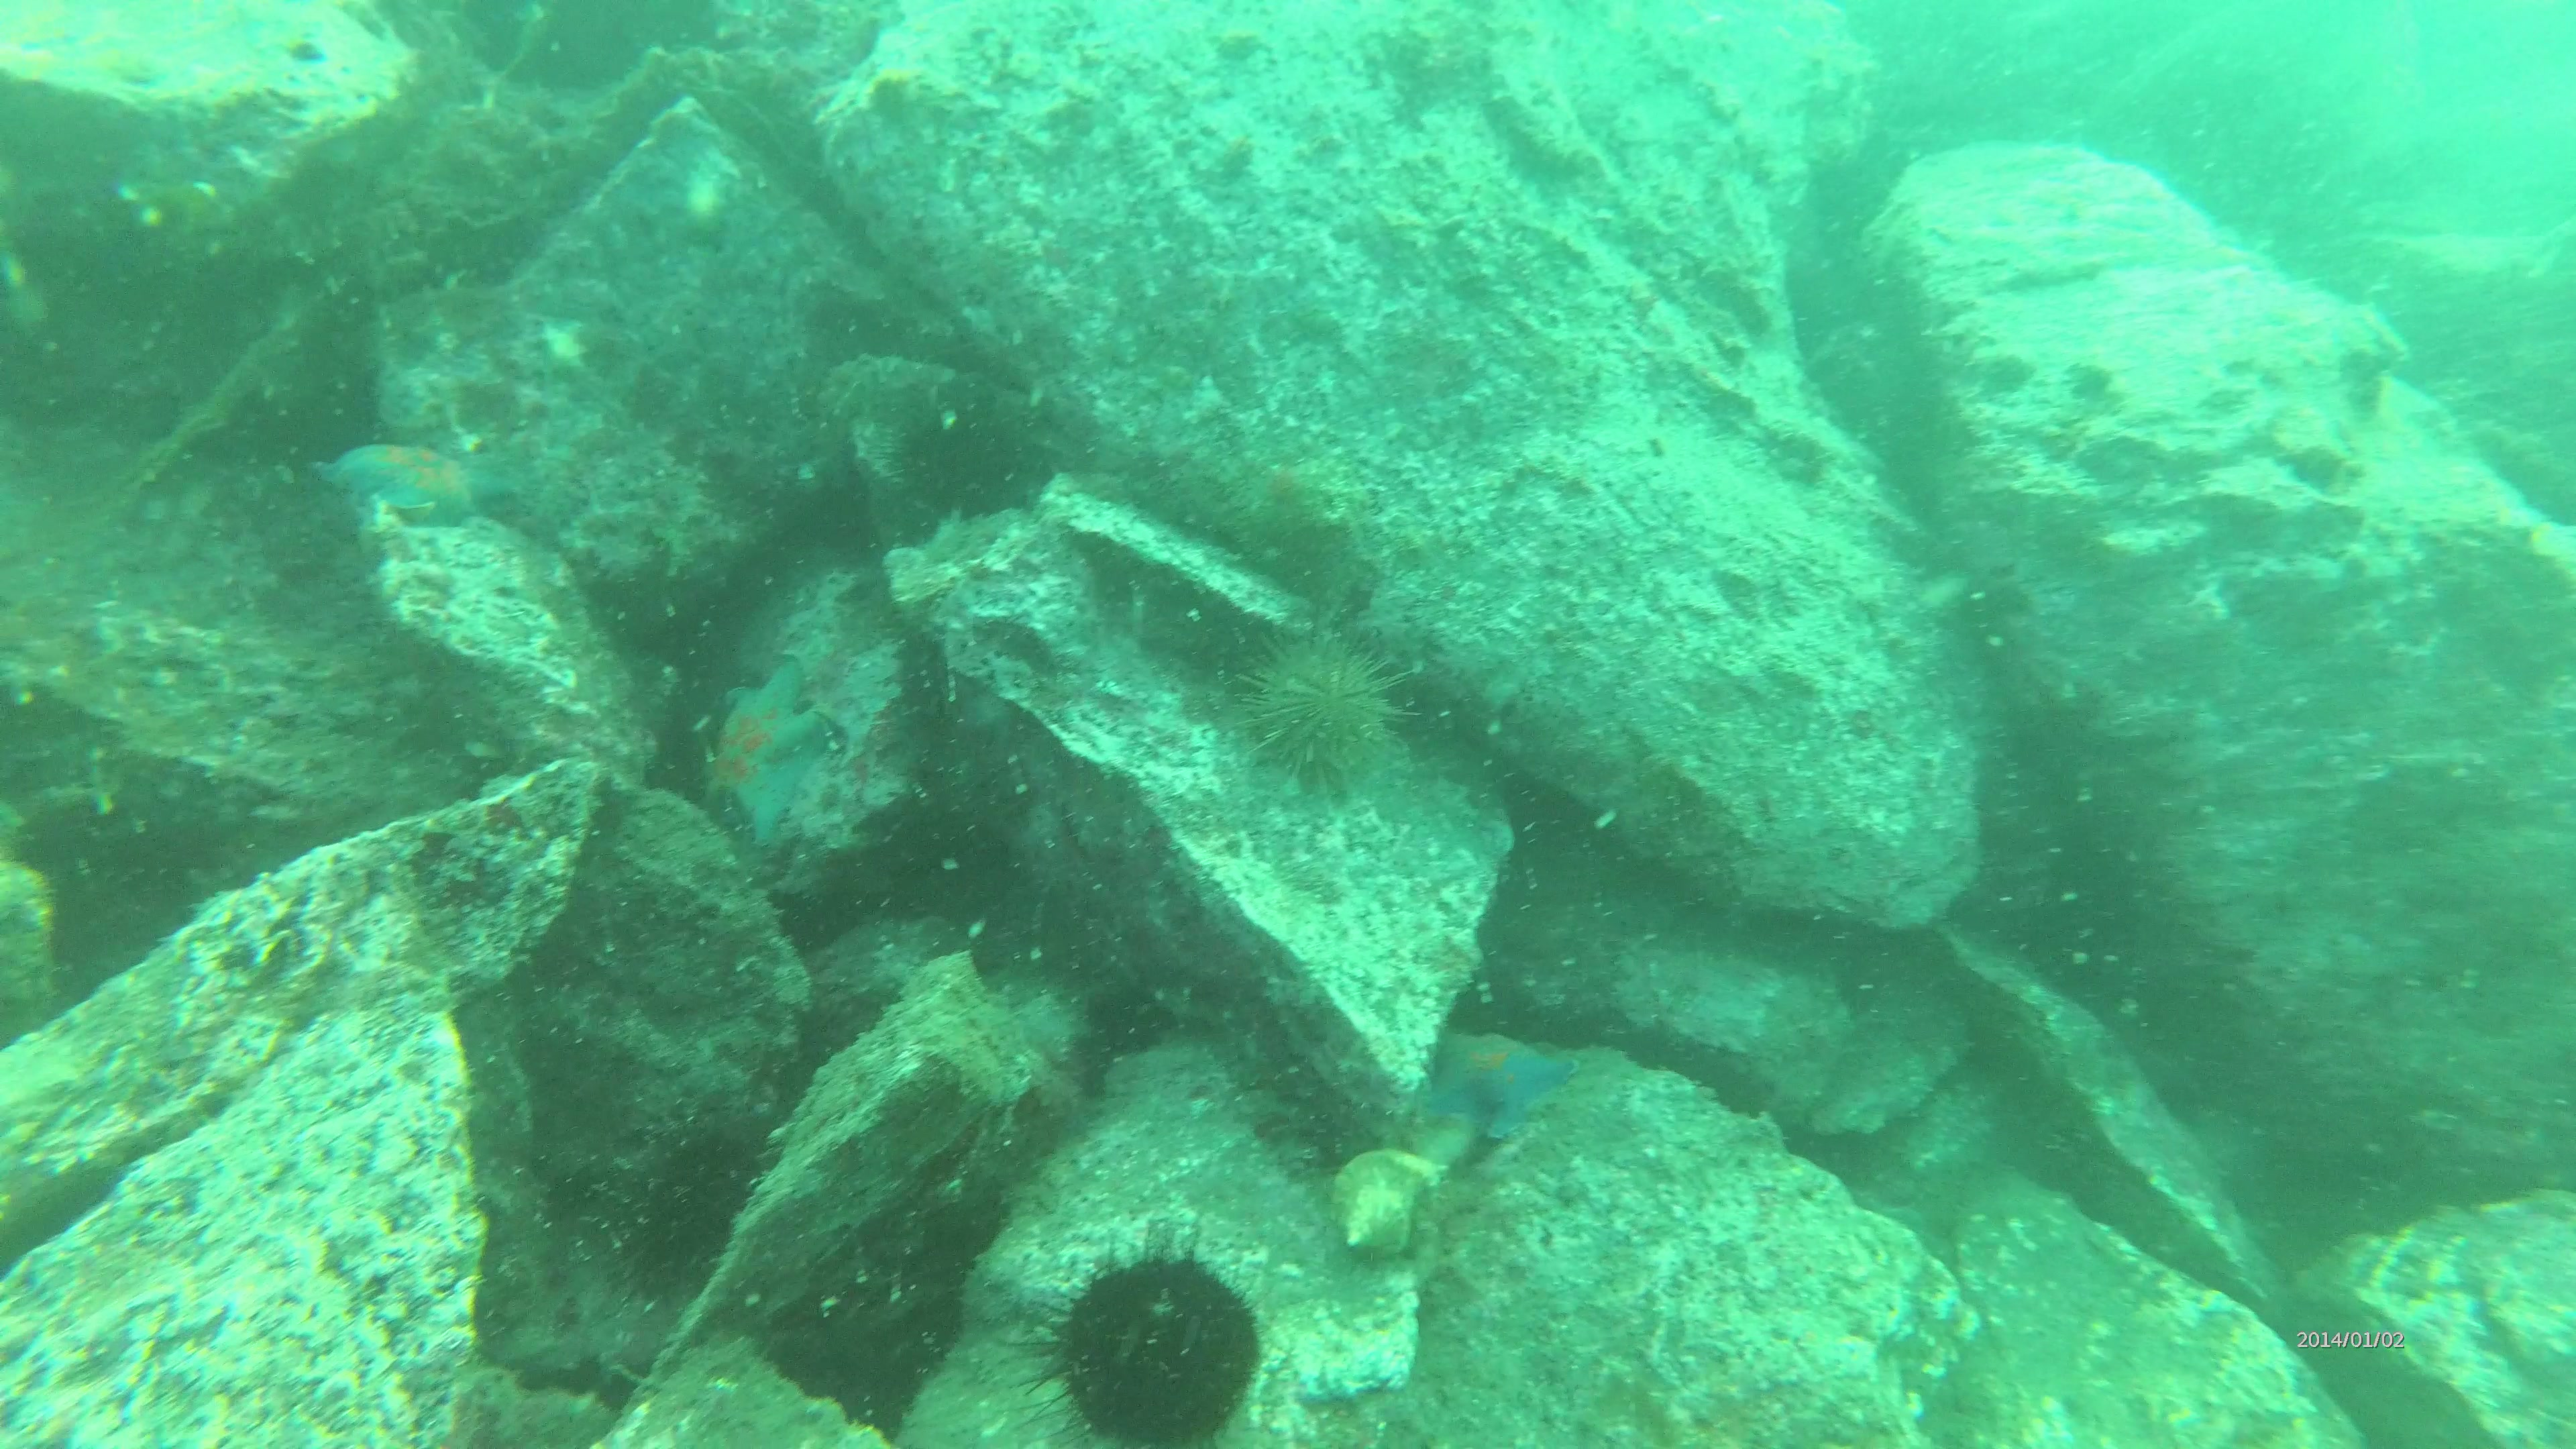echinus: (1024, 1237, 1306, 1449), (603, 1122, 771, 1329), (1233, 625, 1412, 789), (888, 407, 1065, 517)
starfish: (695, 669, 842, 858), (294, 428, 515, 541), (1438, 1021, 1578, 1141)
